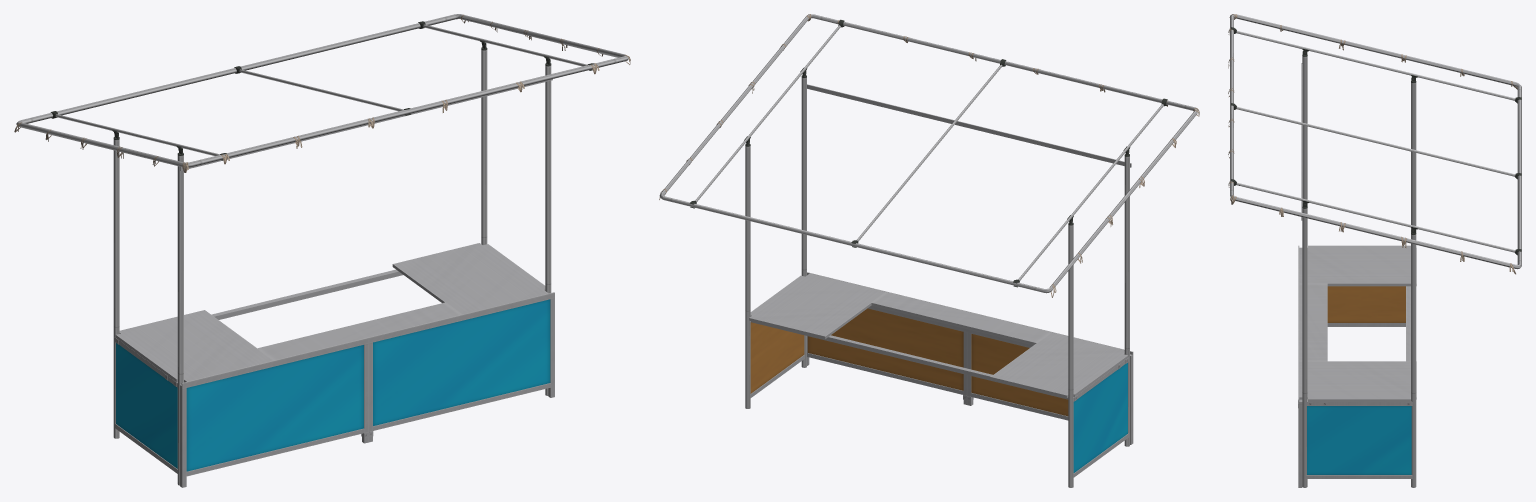
The model's file is jsf_4P_s03_c02_t03.fbx.
3 views of the same model, side by side, from view 1: azimuth 30°, elevation 25°; view 2: azimuth 150°, elevation 25°; view 3: azimuth 270°, elevation 25° (orthographic). The views are drawn at different scales.
Parts seen in each view (by area): view 1: Base_s03_c02, Table_4P_s03_t03, Pillar4_s03, Rope_4P_s03; view 2: Base_s03_c02, Pillar4_s03, Table_4P_s03_t03; view 3: Pillar4_s03, Base_s03_c02, Table_4P_s03_t03, Rope_4P_s03.
Boxes of the visible parts, x1,y1,x2,y2 form: Base_s03_c02: (114, 292, 554, 487); Table_4P_s03_t03: (115, 243, 548, 386); Pillar4_s03: (16, 14, 628, 485); Rope_4P_s03: (14, 14, 630, 172); Base_s03_c02: (750, 272, 1133, 477); Pillar4_s03: (659, 14, 1198, 487); Table_4P_s03_t03: (749, 273, 1128, 400); Pillar4_s03: (1230, 14, 1521, 487); Base_s03_c02: (1298, 245, 1412, 487); Table_4P_s03_t03: (1299, 245, 1416, 405); Rope_4P_s03: (1228, 14, 1517, 274).
Size of the model in its own units: 316 by 243 by 211.
